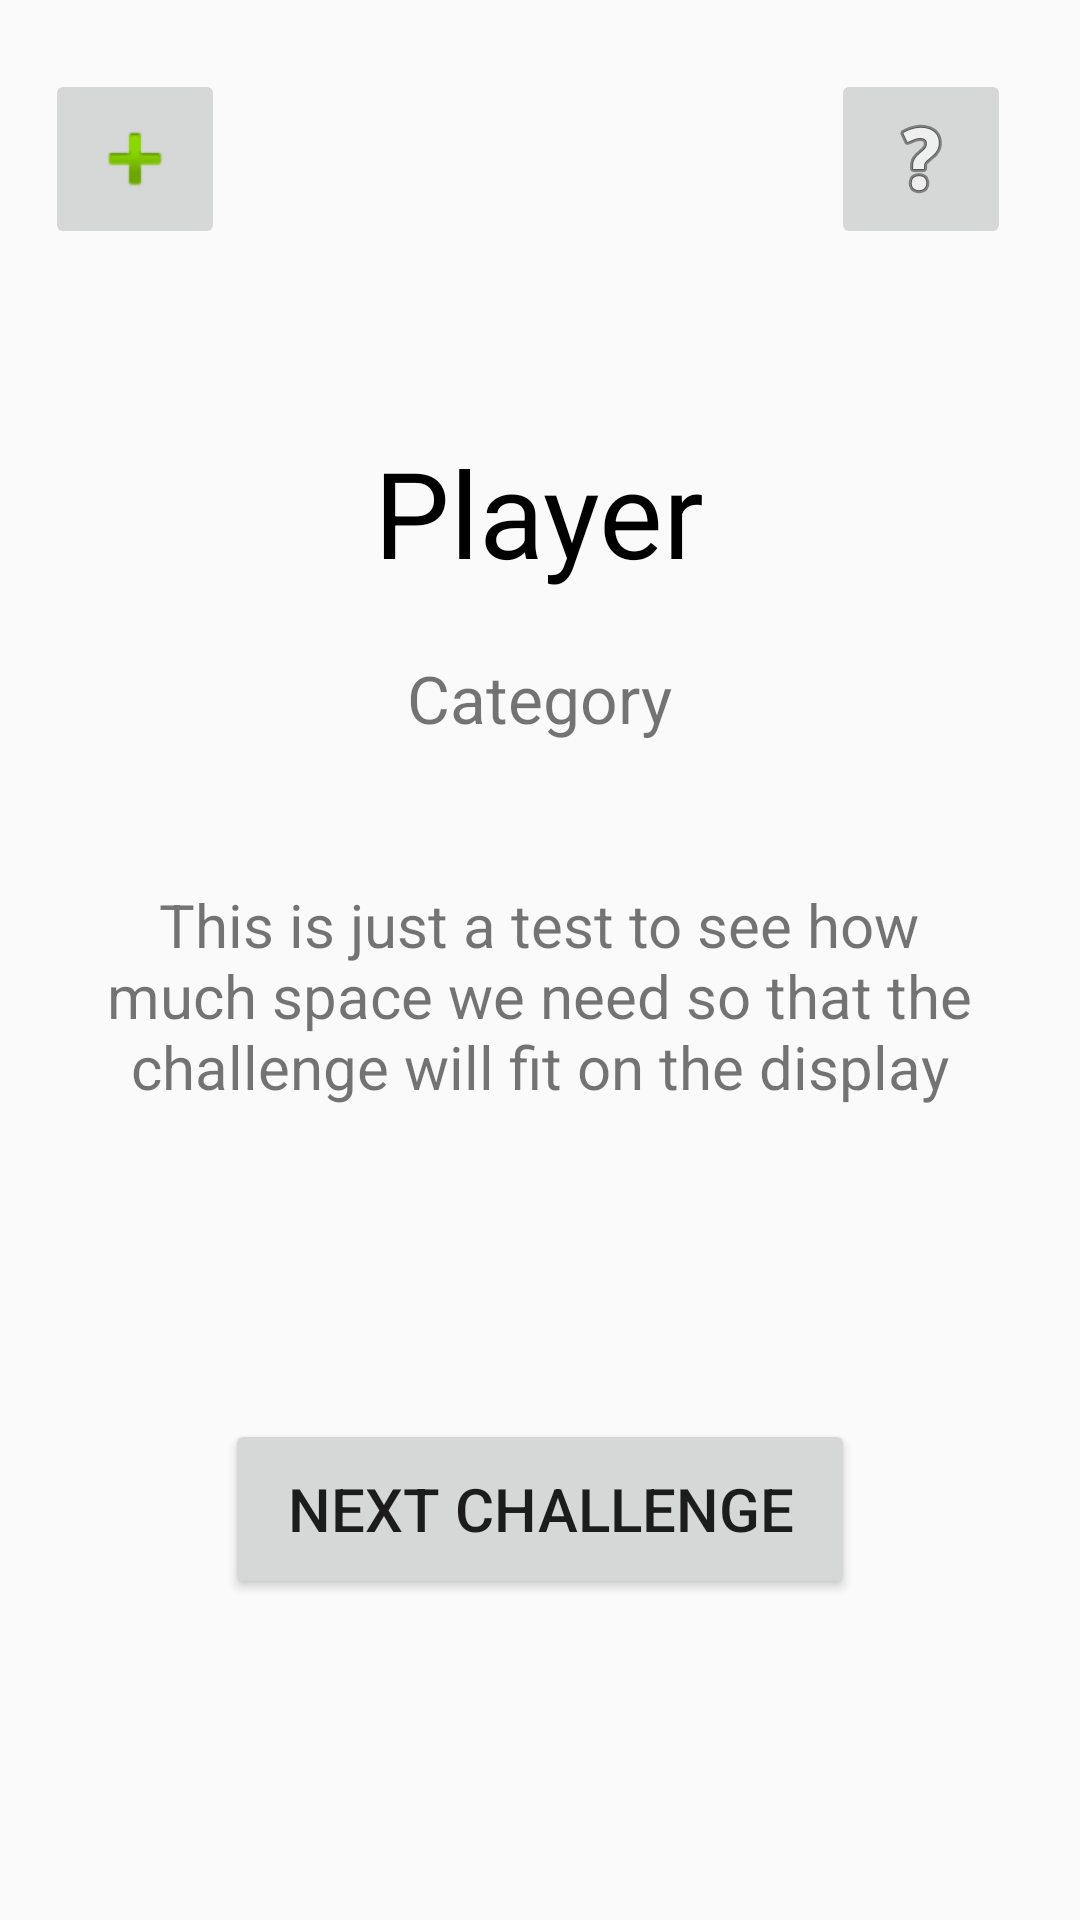

Icons on this 1080px×1920px Android screen, each with its box as [x1, y1, x2, y2]:
add: [57, 87, 213, 231]
help: [843, 87, 999, 231]
